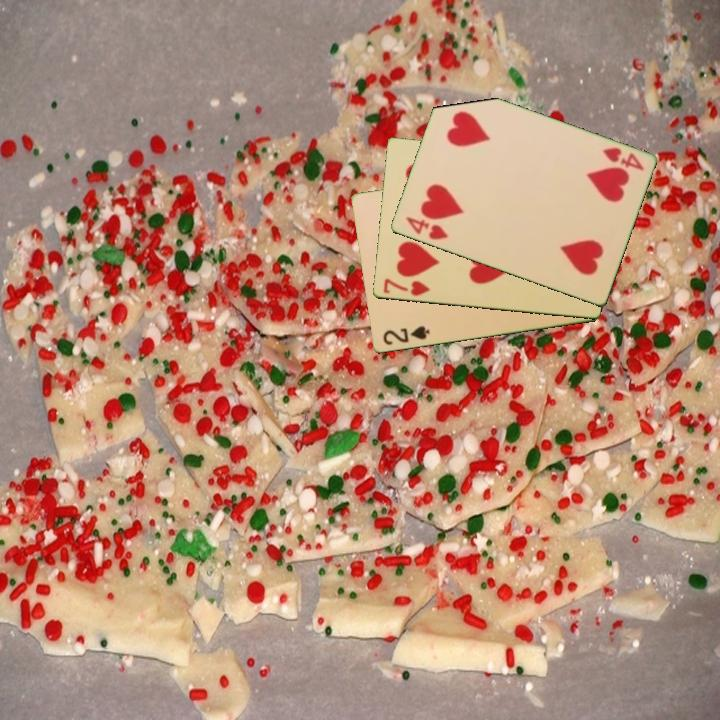2s: (379, 322, 432, 348)
4h: (402, 213, 451, 243), (599, 144, 646, 174)
7h: (380, 275, 433, 299)
